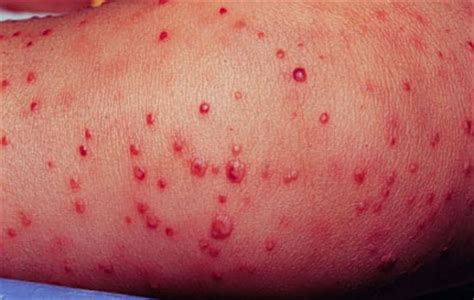Bacterial Infection: (96, 107, 320, 269)
